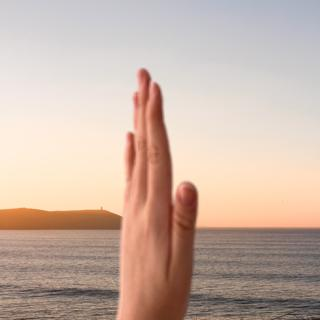Right: (103, 61, 204, 307)
